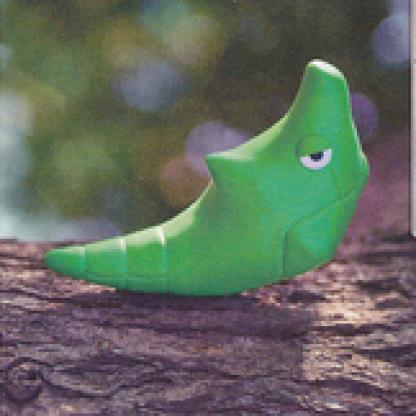Metapod: (36, 45, 378, 328)
